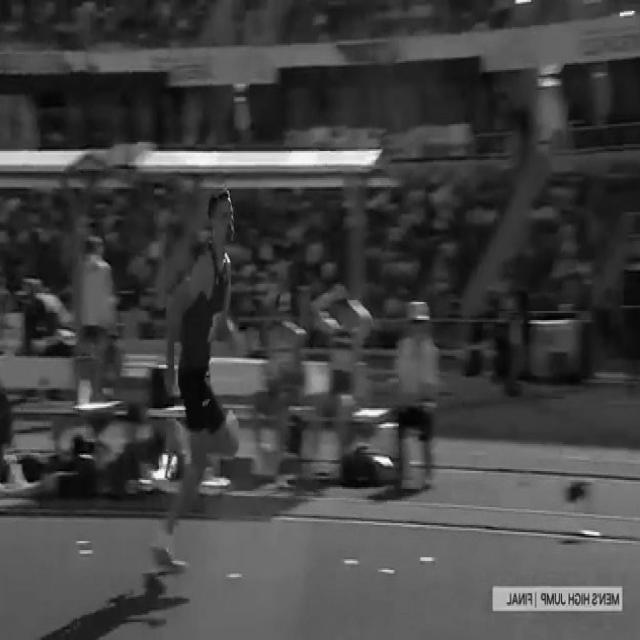run: (148, 185, 262, 574)
